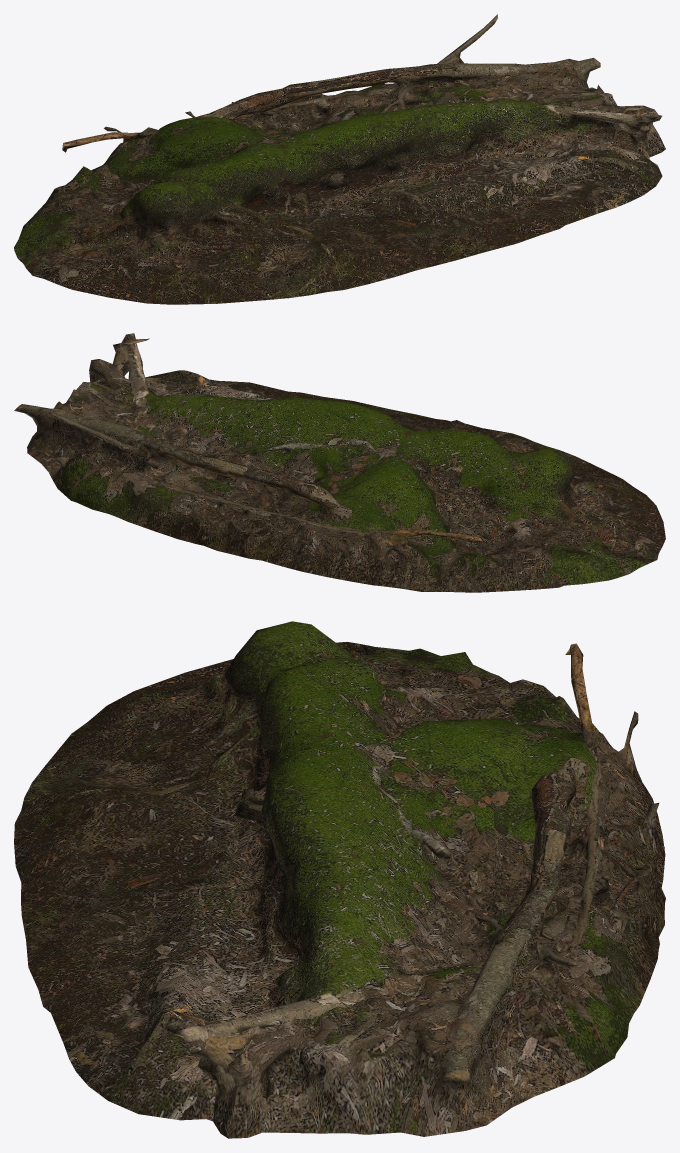
The model's file is embankment.glb.
3 renders of one model, top to bottom at view 1: azimuth 30°, elevation 25°; view 2: azimuth 150°, elevation 25°; view 3: azimuth 270°, elevation 25°, orthographic. The views are drawn at different scales.
Parts seen in each view (by area): view 1: embankment_S_Mossy_Embankment_titfbczfa_lod10_LOD1; view 2: embankment_S_Mossy_Embankment_titfbczfa_lod10_LOD1; view 3: embankment_S_Mossy_Embankment_titfbczfa_lod10_LOD1.
Boxes of the visible parts, x1=… form: embankment_S_Mossy_Embankment_titfbczfa_lod10_LOD1: x1=14, y1=14, x2=665, y2=304; embankment_S_Mossy_Embankment_titfbczfa_lod10_LOD1: x1=14, y1=333, x2=665, y2=592; embankment_S_Mossy_Embankment_titfbczfa_lod10_LOD1: x1=14, y1=621, x2=665, y2=1138.
Bounding box in the file's own units: 4.87 × 0.5929 × 2.7.
1 material, 1 textured.
